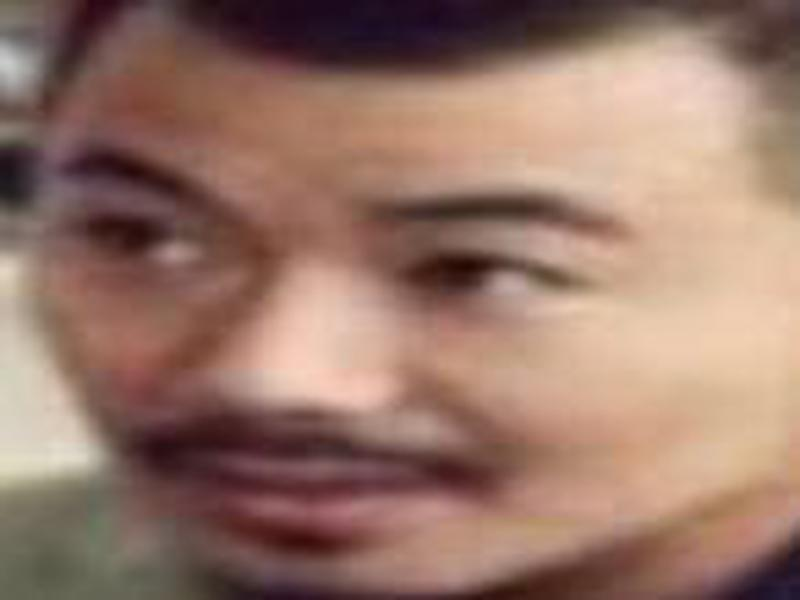without_mask: (34, 68, 776, 584)
